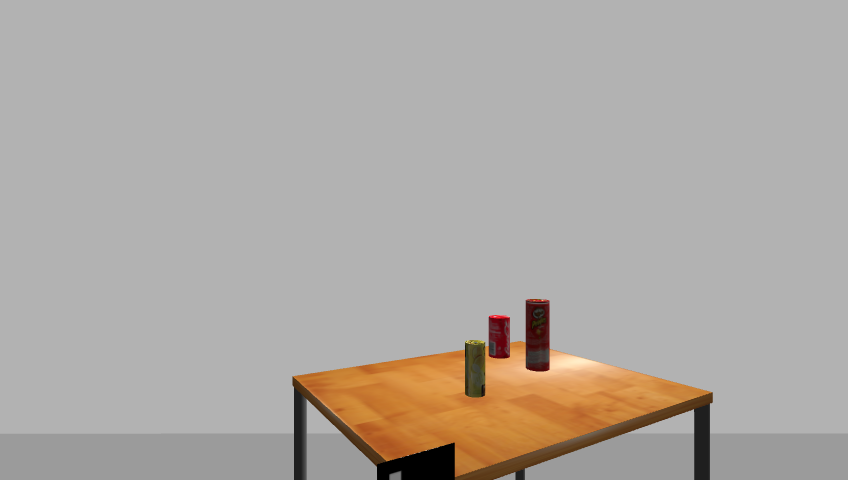aruco marker: (372, 443, 460, 480)
biscuits pack: (463, 339, 486, 398)
coke can: (487, 315, 511, 360)
dinner table: (285, 342, 721, 480)
pringles can: (523, 298, 552, 373)
